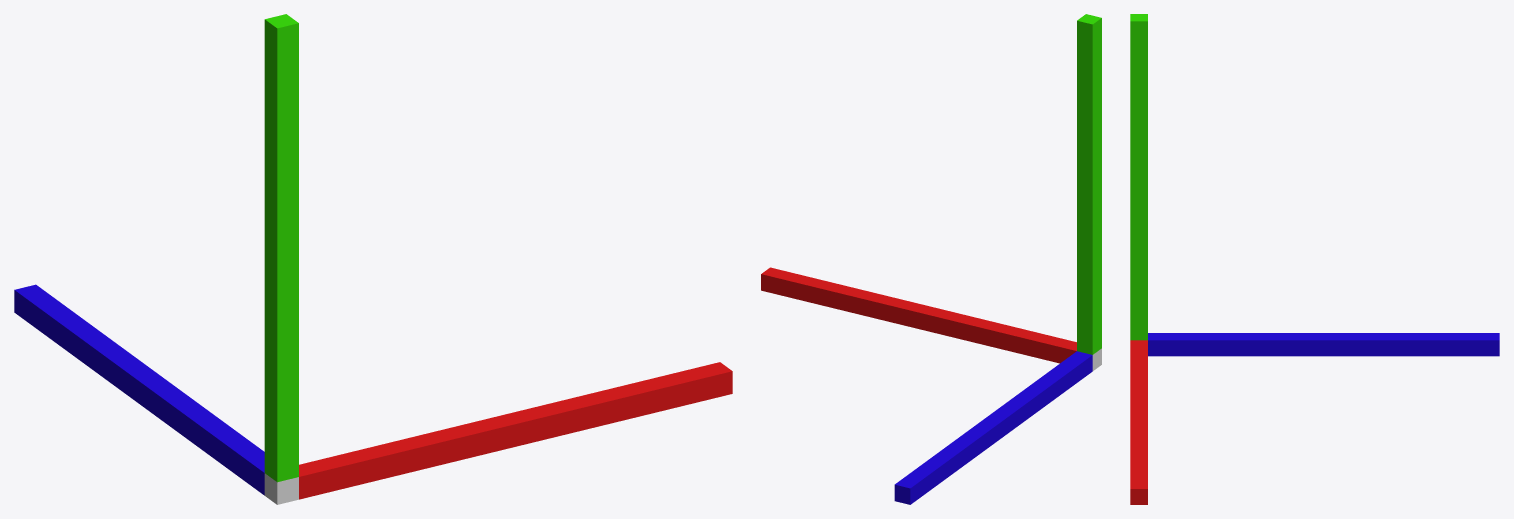
Rendered from arrow.fbx.
3 views of the same model, side by side, from view 1: azimuth 30°, elevation 25°; view 2: azimuth 150°, elevation 25°; view 3: azimuth 270°, elevation 25° (orthographic). The views are drawn at different scales.
Parts seen in each view (by area): view 1: 立方体; view 2: 立方体; view 3: 立方体.
Boxes of the visible parts, bbox=[...] form: 立方体: bbox=[14, 14, 732, 504]; 立方体: bbox=[761, 14, 1101, 504]; 立方体: bbox=[1130, 14, 1499, 504].
Size of the model in its own units: 1050 by 1050 by 1050.
